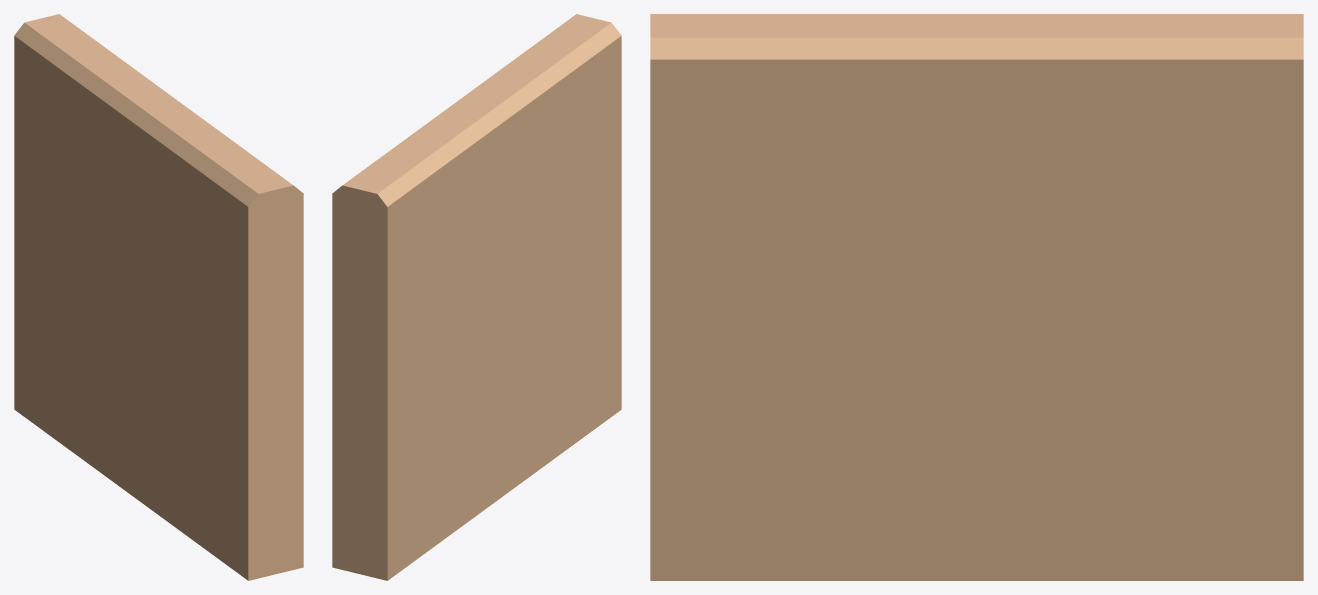
Rendered from Wall B.glb.
3 renders of one model, left to right at view 1: azimuth 30°, elevation 25°; view 2: azimuth 150°, elevation 25°; view 3: azimuth 270°, elevation 25°, orthographic. The views are drawn at different scales.
Parts seen in each view (by area): view 1: Wall B; view 2: Wall B; view 3: Wall B.
Boxes of the visible parts, x1,y1,x2,y2 form: Wall B: (14,14,303,580); Wall B: (332,14,621,580); Wall B: (650,14,1303,580).
Size of the model in its own units: 0.0553 by 0.3674 by 0.4056.
